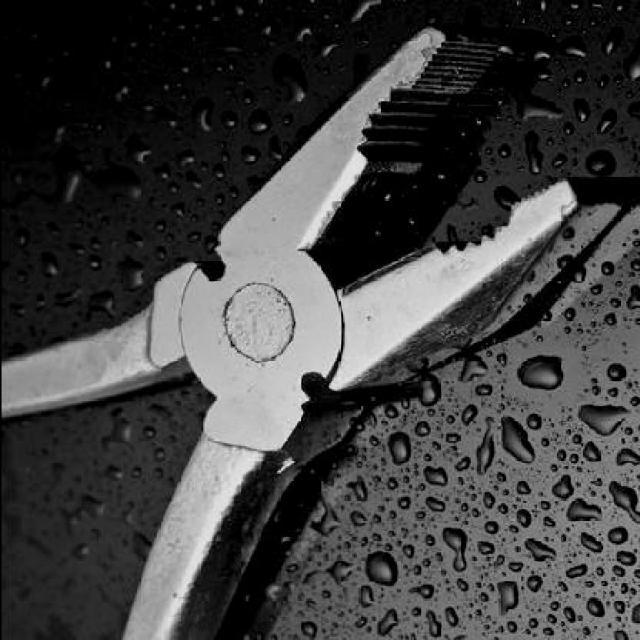pliers: (1, 23, 626, 639)
